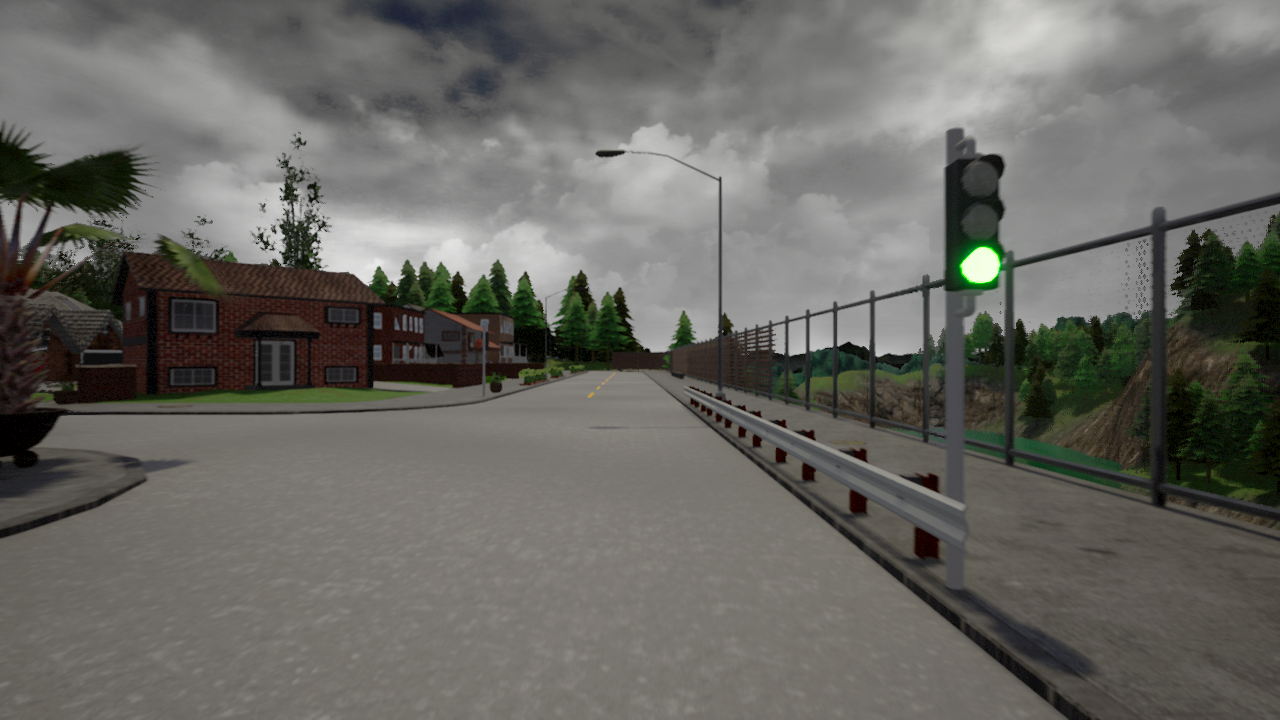green: (943, 152, 1009, 290)
